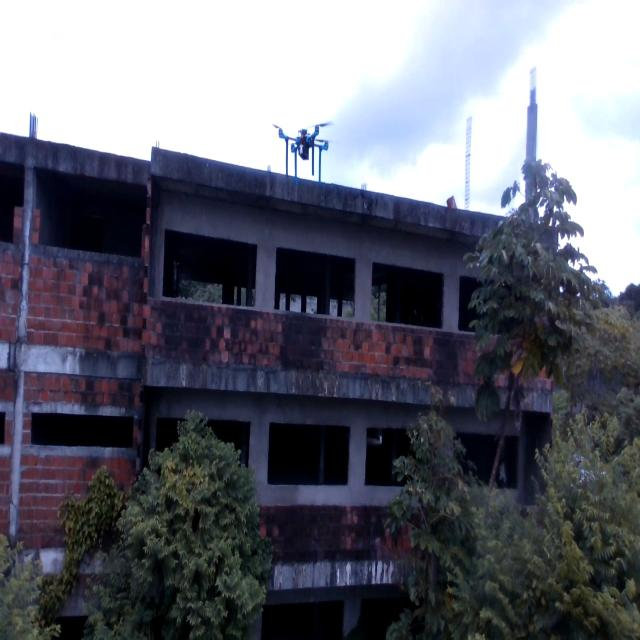-uav-: (259, 95, 339, 210)
